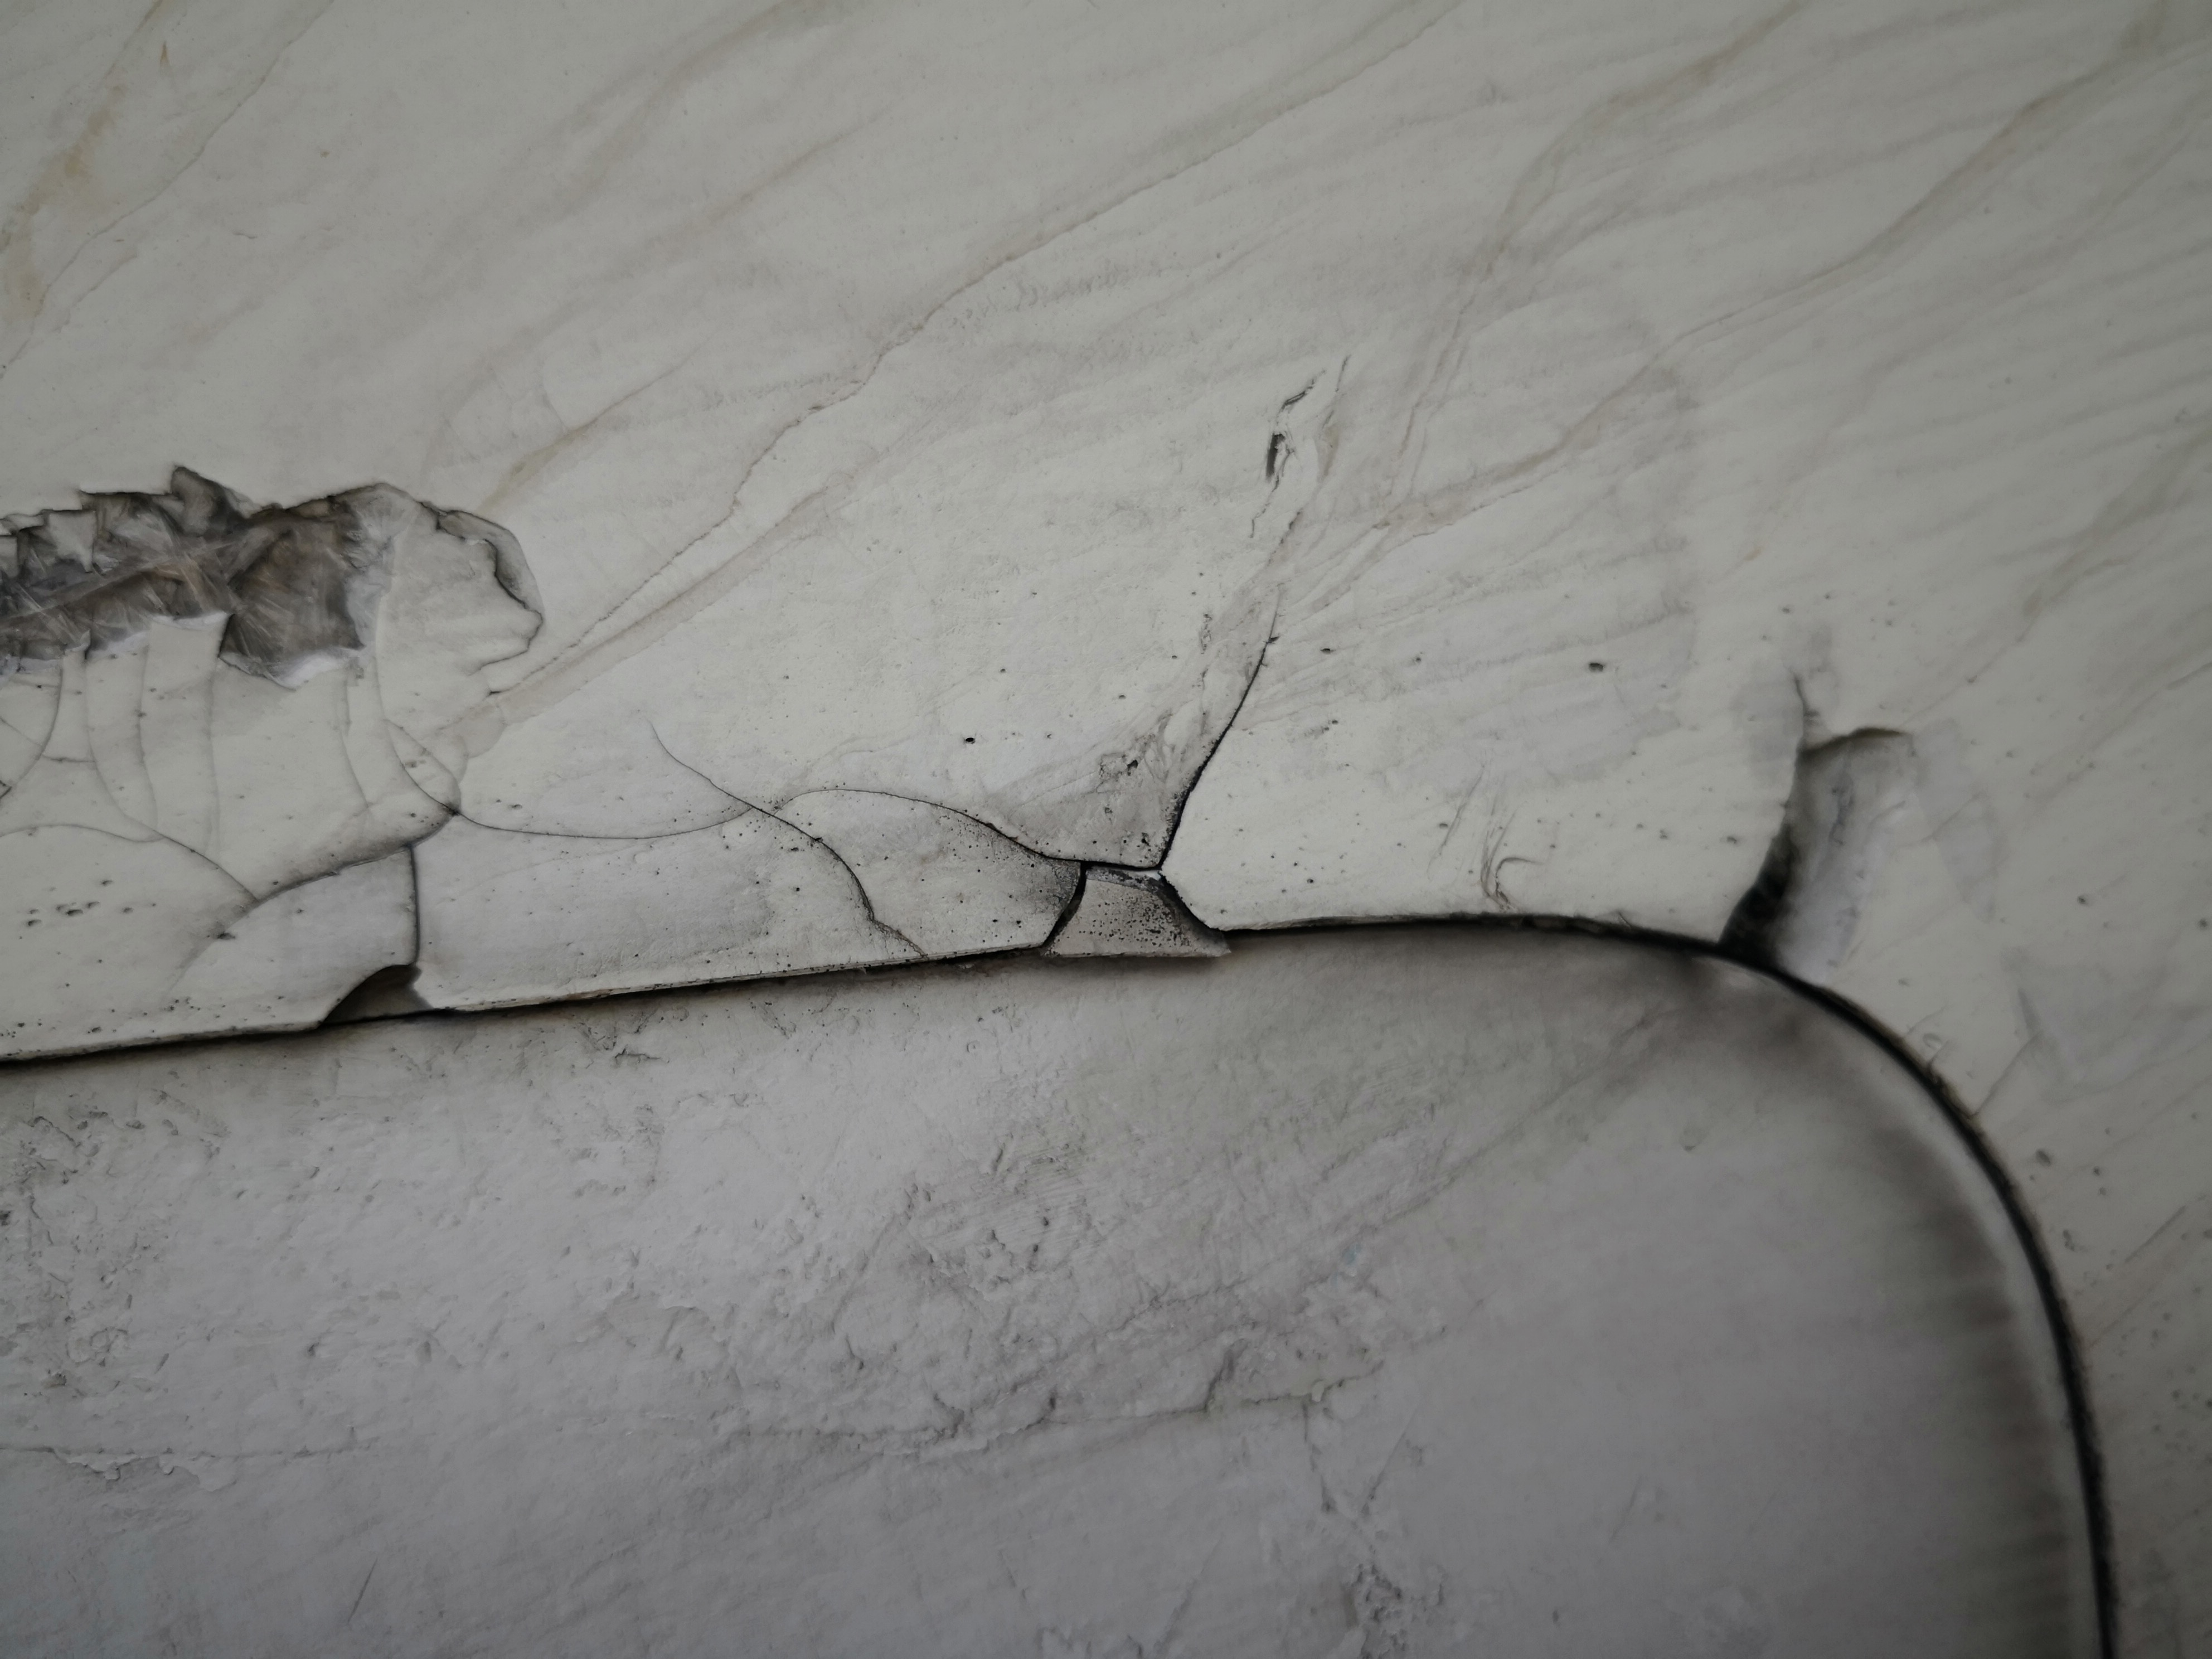B&C: (0, 275, 2022, 1021)
